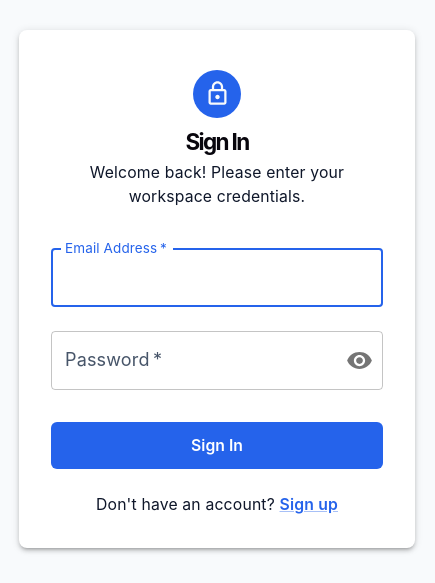
Test case: LoginPage Component › validates empty password field on form submission
Type "valid@example.com" into the field labelled "Email Address *" at (217, 278), box top-left (51, 248), bottom-right (383, 307)
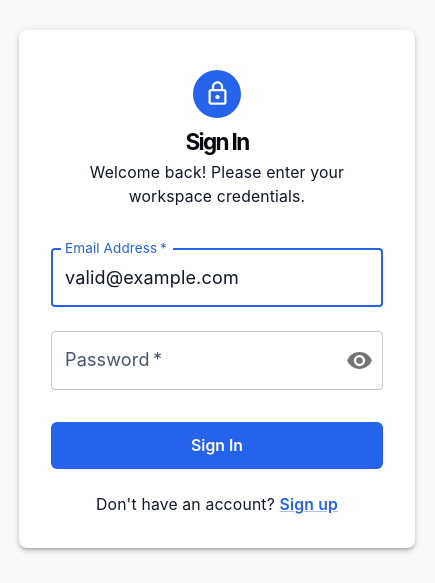
Click the button "Sign In" at (217, 446), box top-left (51, 422), bottom-right (383, 469)
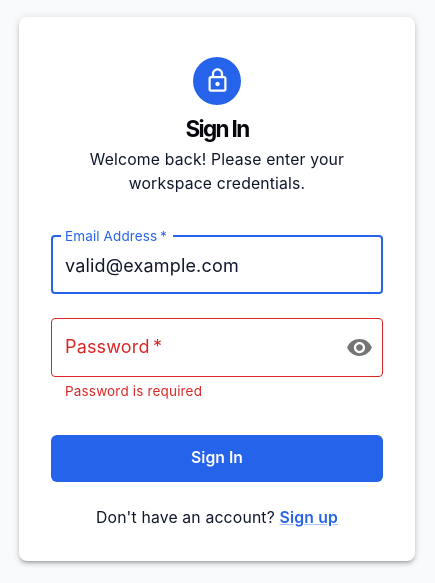
Now the text "Password is required" is shown, box top-left (65, 383), bottom-right (202, 399)
